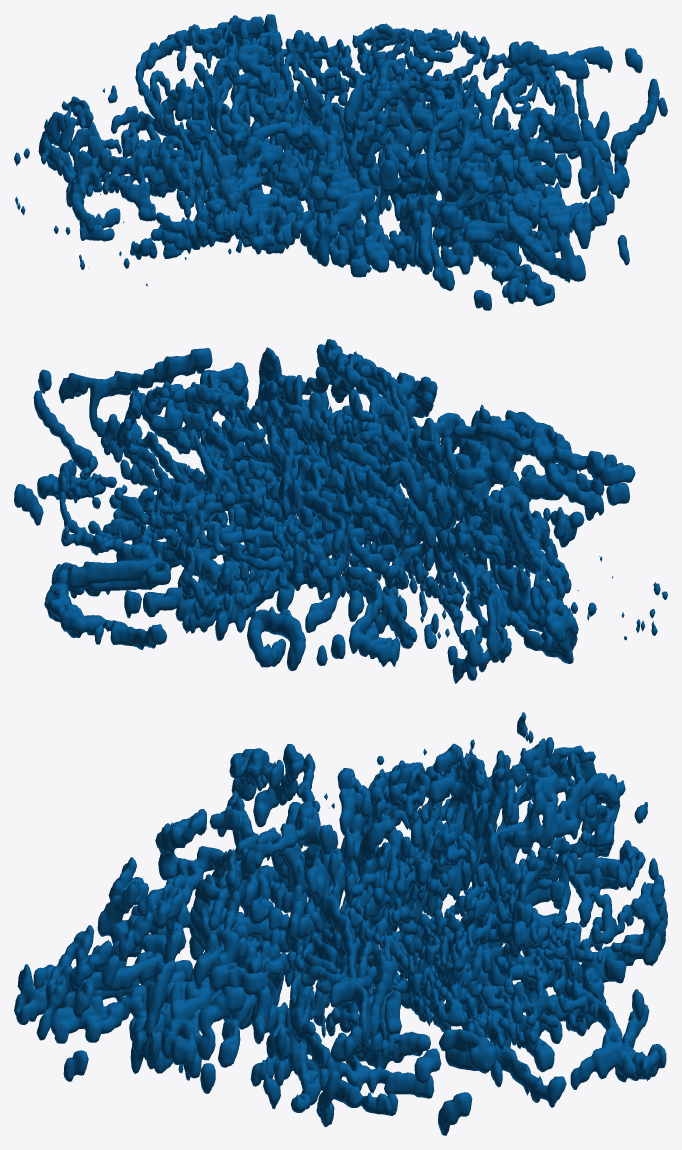
The model's file is 30_24HR_donuts.glb.
3 renders of one model, top to bottom at view 1: azimuth 30°, elevation 25°; view 2: azimuth 150°, elevation 25°; view 3: azimuth 270°, elevation 25°, orthographic. The views are drawn at different scales.
Parts seen in each view (by area): view 1: 30_24; view 2: 30_24; view 3: 30_24.
Boxes of the visible parts, box(x1,y1,x2,y2) form: 30_24: box(14, 14, 667, 310); 30_24: box(14, 339, 667, 683); 30_24: box(14, 712, 667, 1135).
Bounding box in the file's own units: 29.17 × 8.61 × 22.71.
